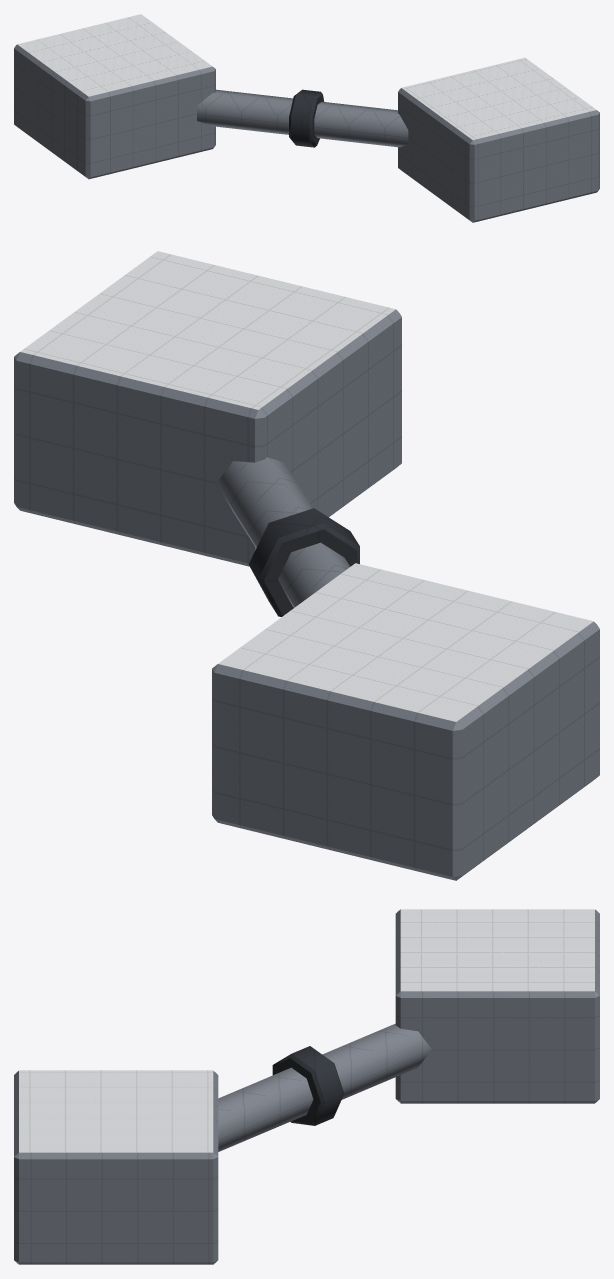
File: R4C_ROD_DIAG_2D_SHORT_LOD1.glb
3 views of the same model, one above another, from view 1: azimuth 30°, elevation 25°; view 2: azimuth 150°, elevation 25°; view 3: azimuth 270°, elevation 25° (orthographic). The views are drawn at different scales.
Parts seen in each view (by area): view 1: R4C_ROD_DIAG_2D_SHORT_LOD1; view 2: R4C_ROD_DIAG_2D_SHORT_LOD1; view 3: R4C_ROD_DIAG_2D_SHORT_LOD1.
Part boxes in pixels (bbox=[...]): R4C_ROD_DIAG_2D_SHORT_LOD1: bbox=[14, 14, 599, 222]; R4C_ROD_DIAG_2D_SHORT_LOD1: bbox=[14, 251, 599, 880]; R4C_ROD_DIAG_2D_SHORT_LOD1: bbox=[14, 909, 599, 1264].
Bounding box in the file's own units: 1.07 × 0.226 × 1.07.
3 materials, 3 textured.
